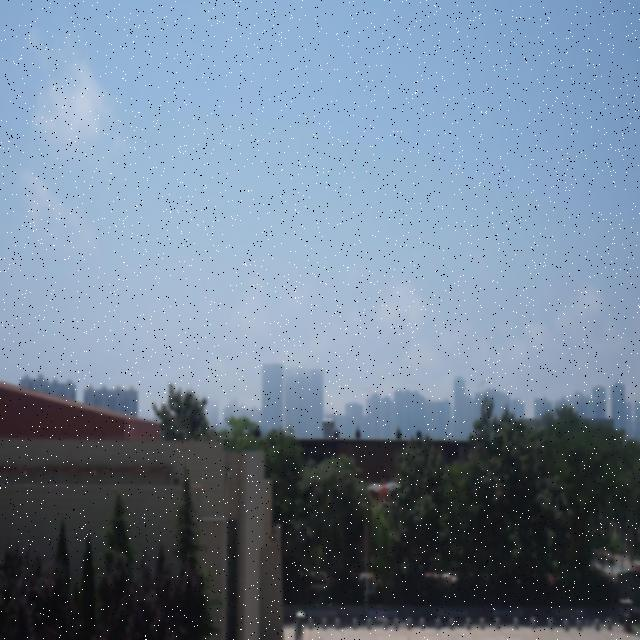UAV: (367, 480, 401, 506)
